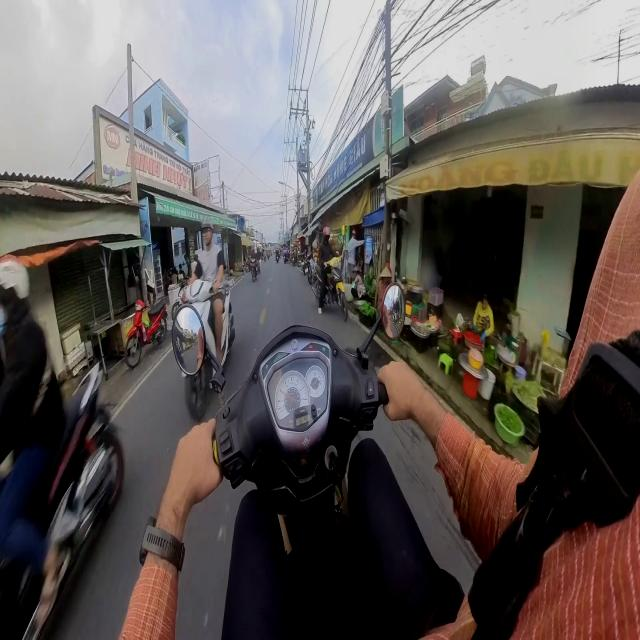motorcycle: (213, 284, 404, 638), (28, 365, 124, 606), (174, 280, 234, 363), (125, 300, 167, 368), (325, 258, 348, 320), (172, 279, 187, 320), (250, 257, 259, 282)
